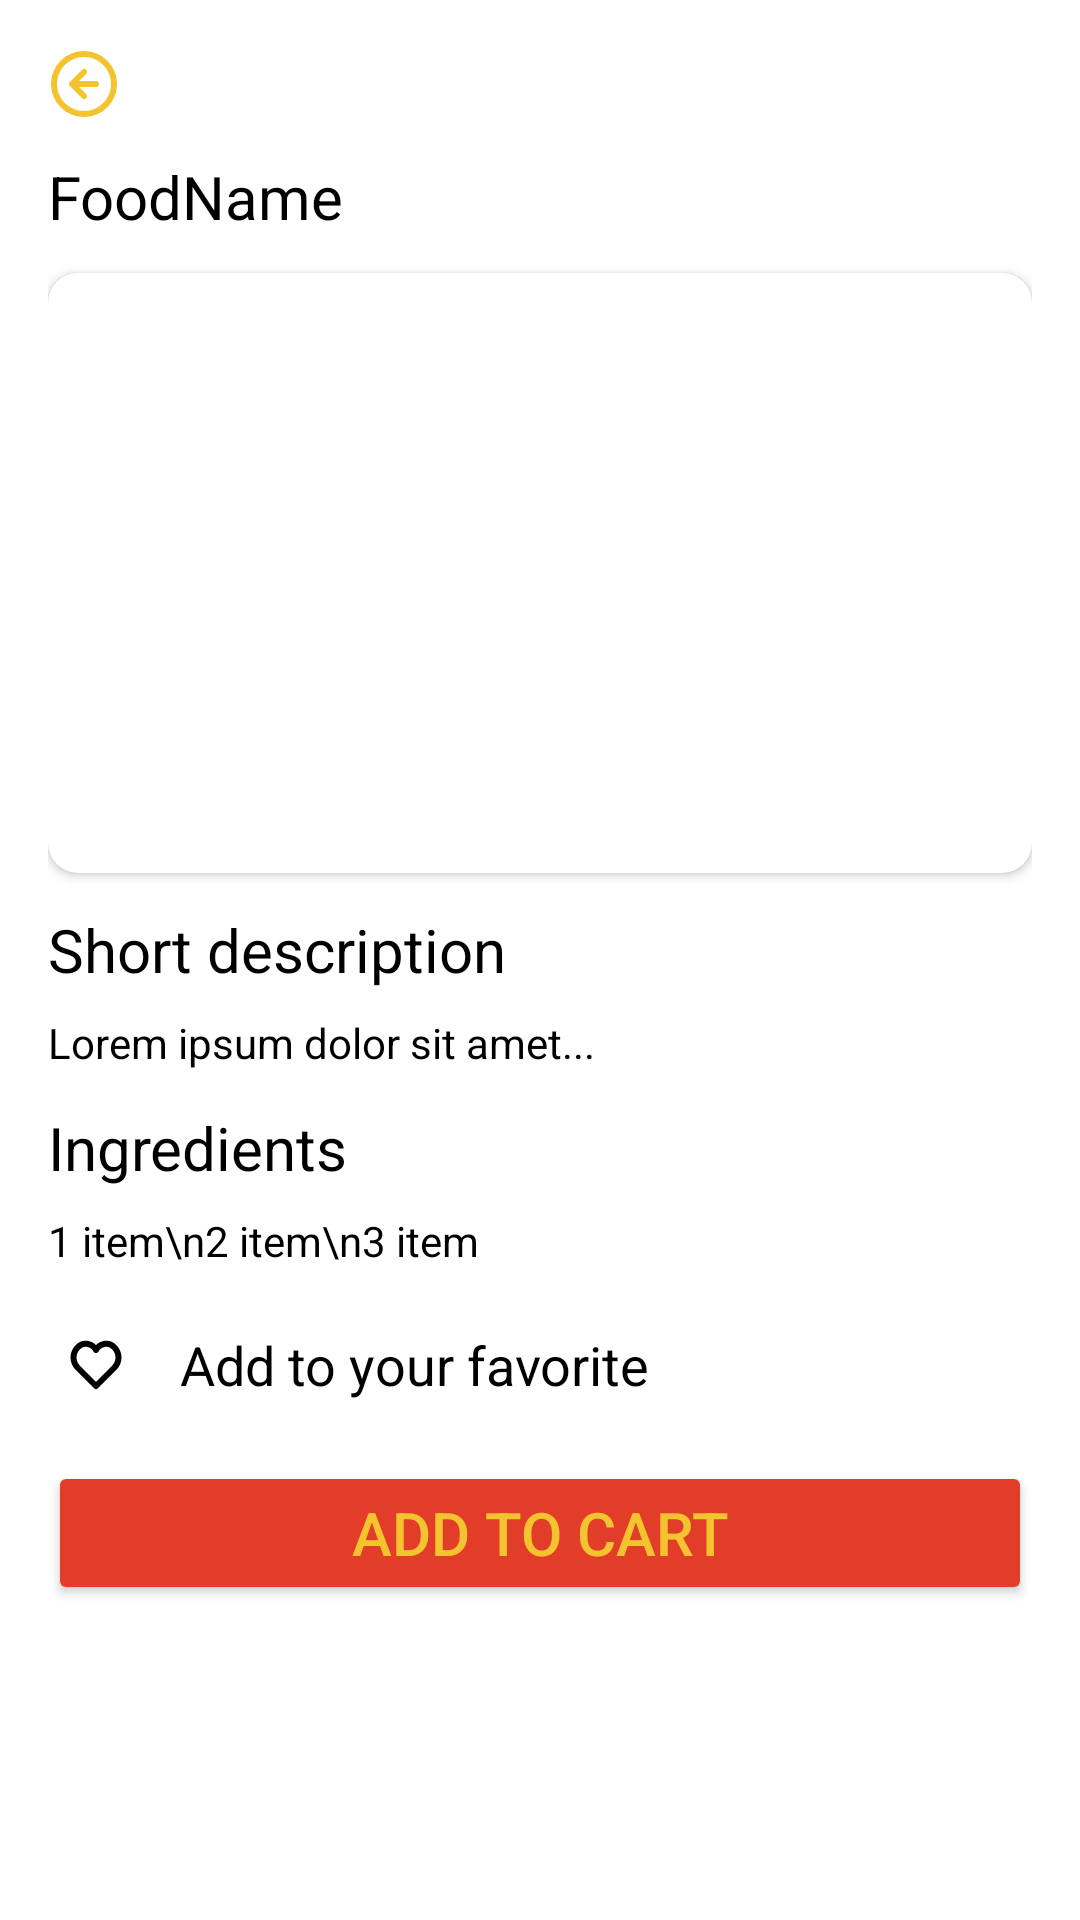

Icons on this 1080x1920 Android screen, each with the point to tap as (x=x, y=y):
arrow left: (x=84, y=84)
heart: (x=96, y=1364)
